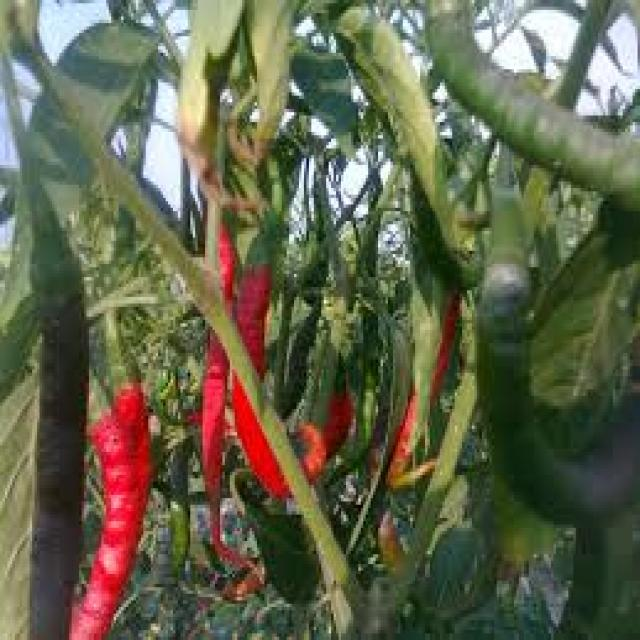sehat: (11, 9, 162, 243), (520, 196, 638, 455)
